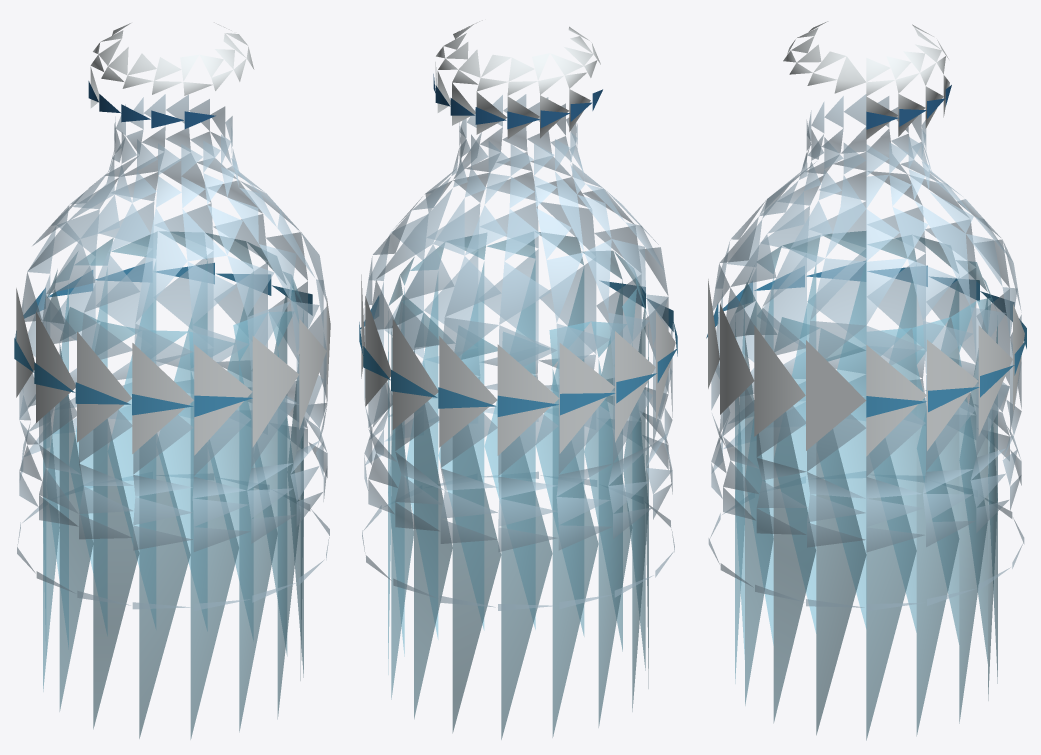
File: 09_plastic_water_bottle_blue_500ml.glb
3 views of the same model, side by side, from view 1: azimuth 30°, elevation 25°; view 2: azimuth 150°, elevation 25°; view 3: azimuth 270°, elevation 25° (orthographic).
Visible parts, largest first — view 1: white_sports_cap; view 2: white_sports_cap; view 3: white_sports_cap.
Part boxes in pixels (x1,y1,x2,y2): white_sports_cap: (14, 22, 330, 739); white_sports_cap: (359, 20, 677, 739); white_sports_cap: (706, 21, 1026, 740).
Size of the model in its own units: 0.0806 by 0.18 by 0.0806.
